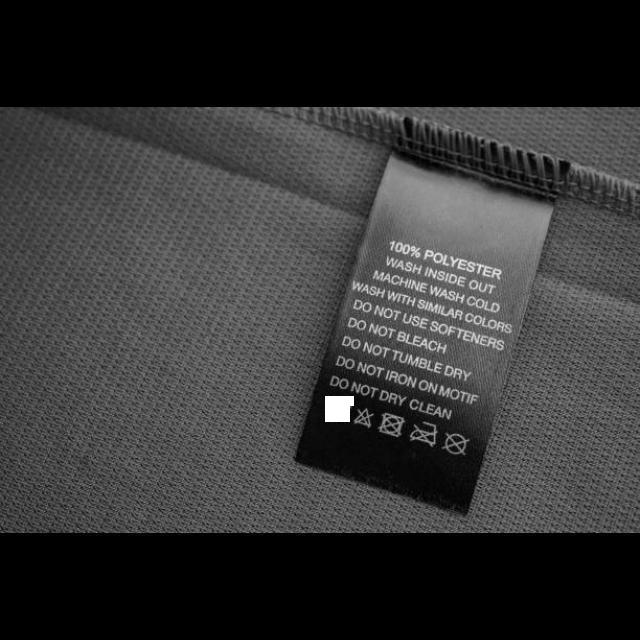DN_bleach: (351, 406, 375, 429)
DN_dry_clean: (441, 430, 471, 458)
DN_iron: (408, 419, 438, 447)
DN_tumble_dry: (376, 412, 406, 438)
